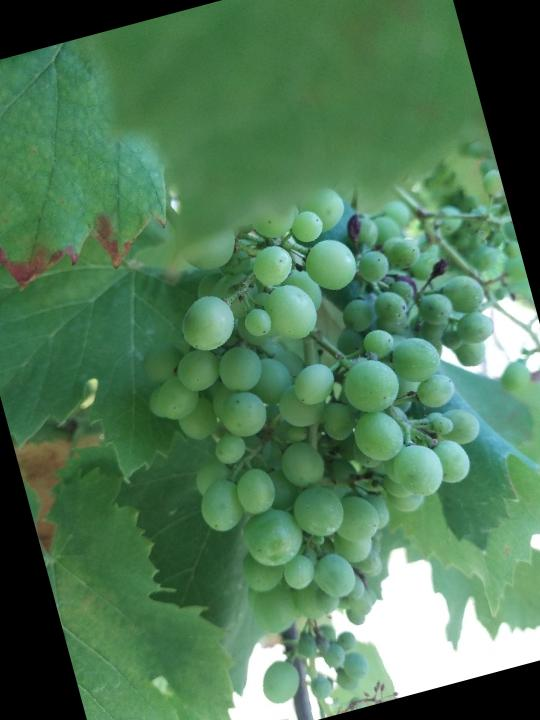grape: (105, 153, 540, 663)
